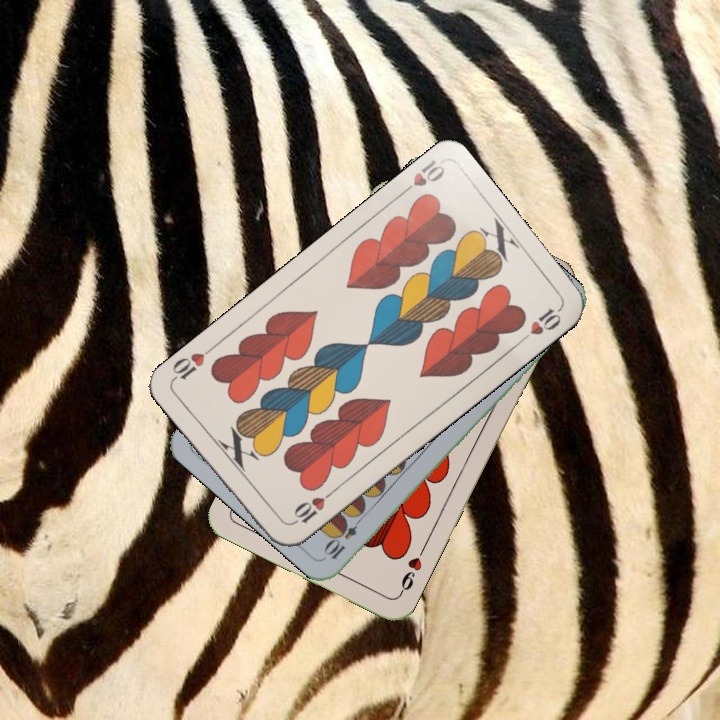E10: (321, 510, 367, 562)
H10: (395, 155, 448, 199), (286, 486, 336, 528)
H9: (395, 543, 428, 598)
